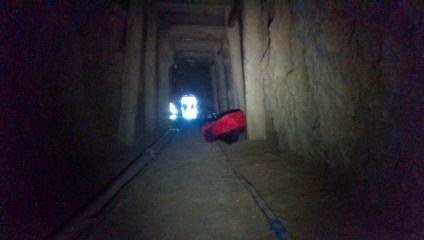backpack: (198, 111, 247, 145)
manikin: (167, 93, 183, 133)
